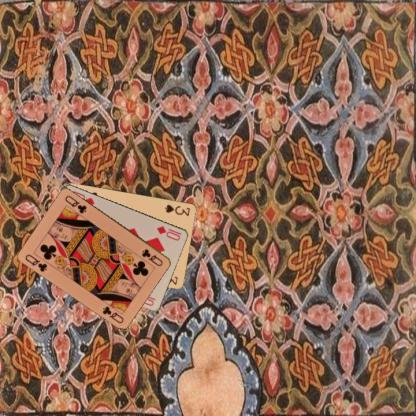10d: (154, 223, 182, 242)
3s: (162, 202, 192, 217)
Qc: (22, 252, 48, 274), (139, 246, 164, 268)
